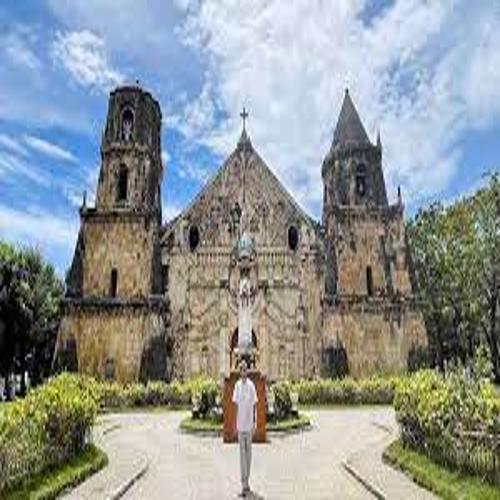Miagao Church: (74, 57, 429, 395)
